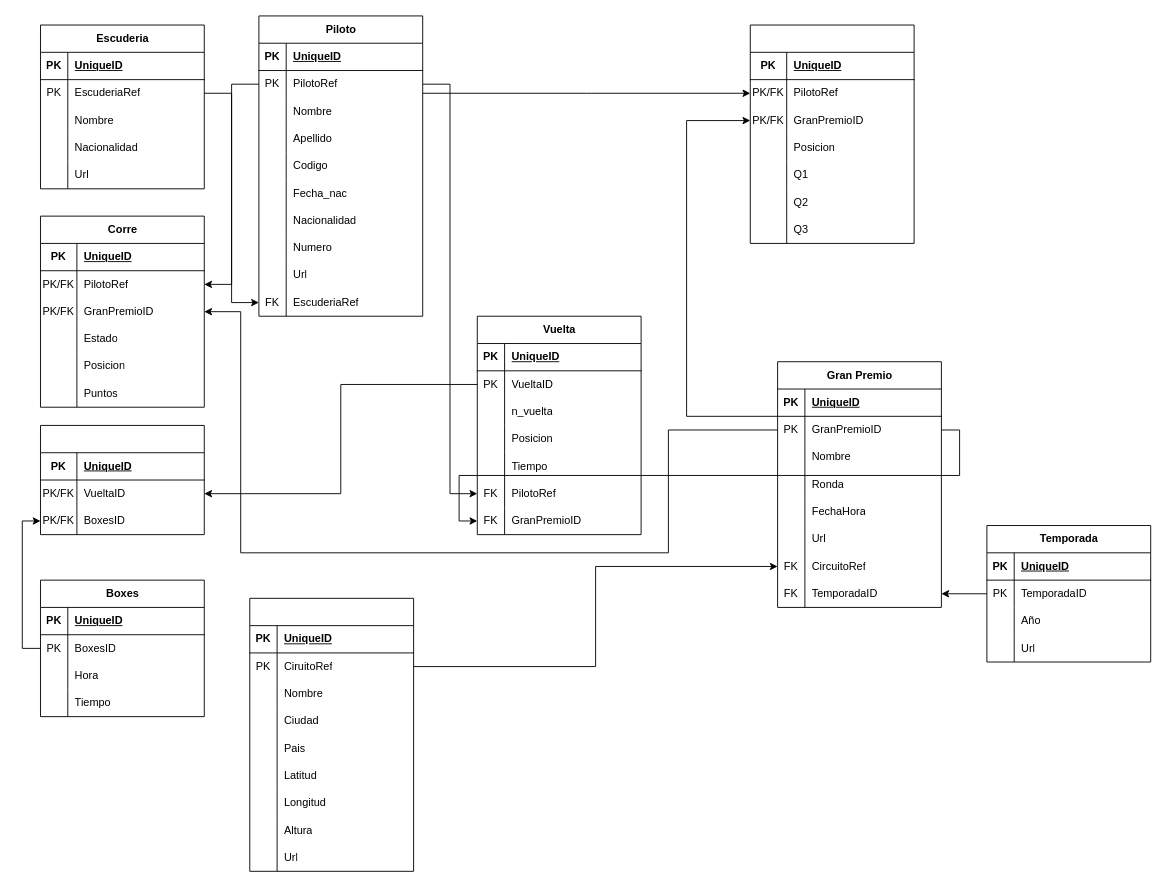
The diagram is 1167 pixels wide and 887 high, and some of its shapes have lost their labels. Each missing label, with the box of its shape:
Califica: (749, 24, 914, 243)
Circuito: (249, 597, 414, 871)
RealizaPitStops: (40, 425, 204, 535)
